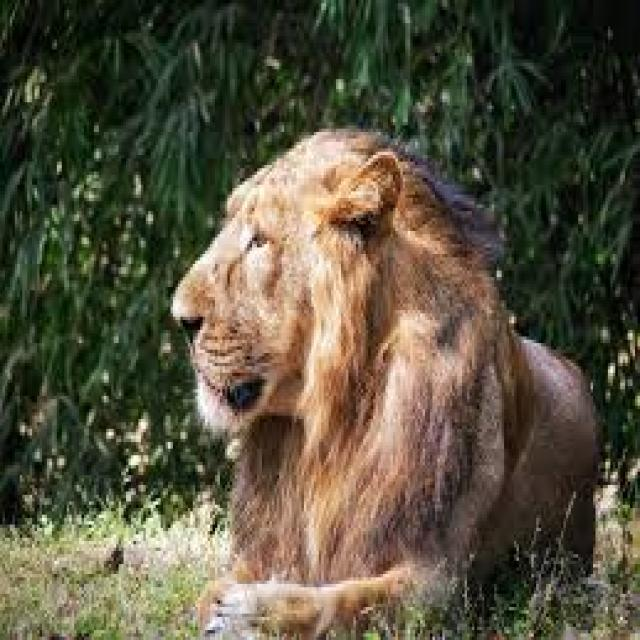Lion: (177, 127, 594, 635)
